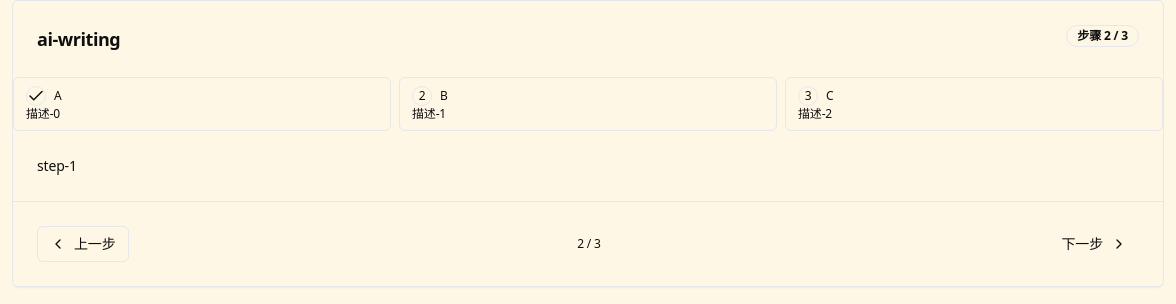
Scenario: Wizard — 步骤导航 › 点击「上一步」回退到前一步
The width and height of the screenshot is (1176, 304).
Expected: the text "step-1" is shown, [37,156,77,175]
Click the button "上一步": (83, 244) [37,226,128,262]
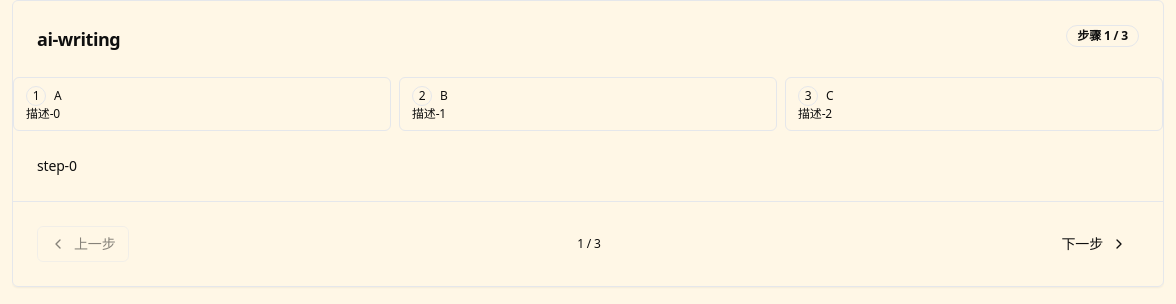
Expected: the text "step-0" is shown, [37,156,77,175]
